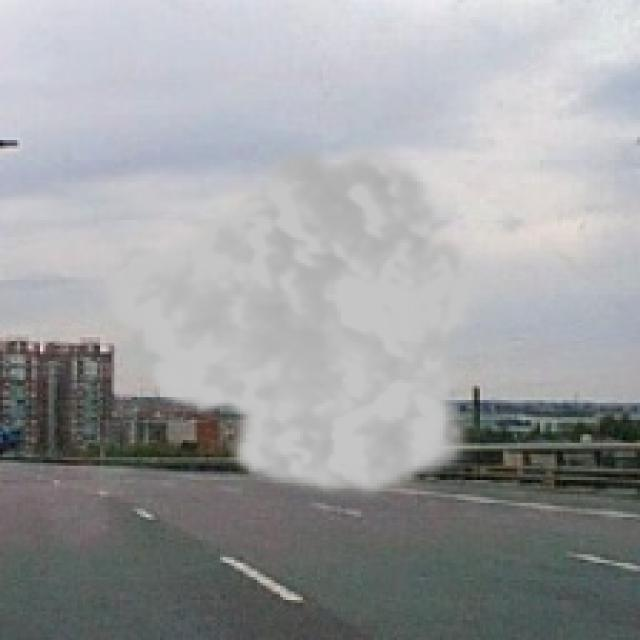smoke: (91, 137, 483, 503)
